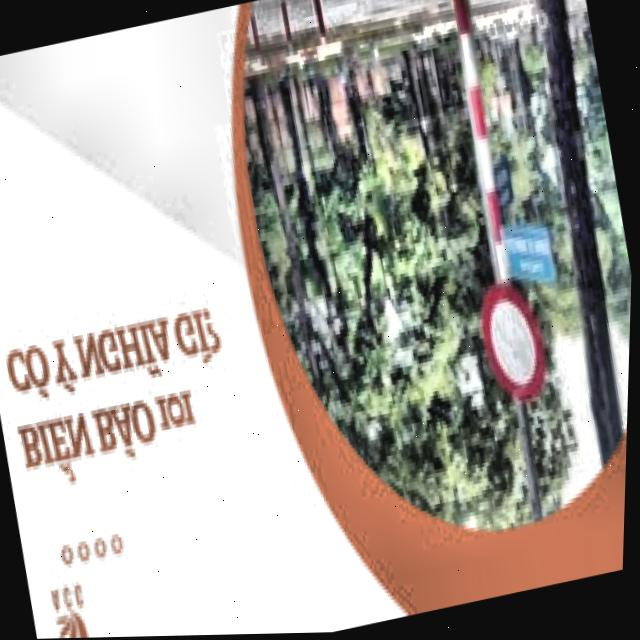Bien_bao_duong_cam: (470, 274, 557, 412)
